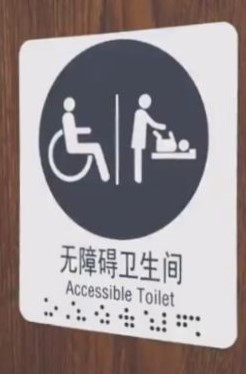Braille: (176, 314, 189, 336), (118, 306, 130, 329), (144, 310, 156, 332), (189, 315, 201, 337), (105, 305, 117, 326), (156, 312, 168, 333), (130, 308, 141, 329), (43, 297, 54, 317), (54, 298, 64, 319), (66, 300, 76, 320), (95, 304, 105, 324), (54, 297, 64, 316), (77, 303, 87, 322)
